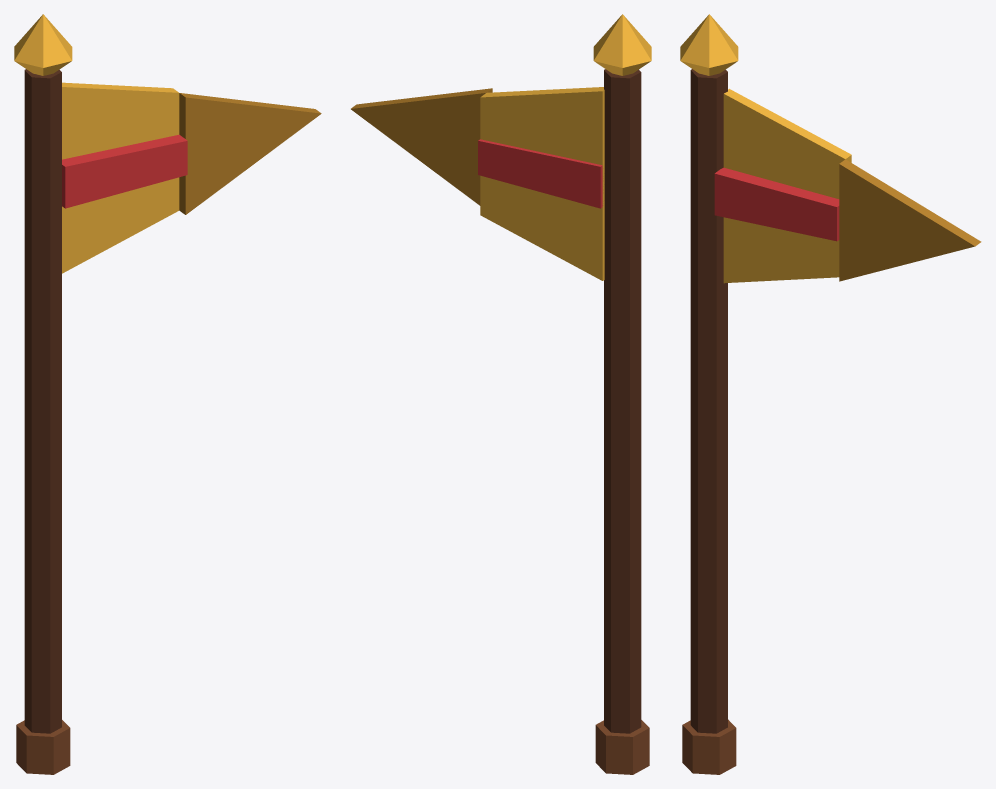
Rendered from OrderFlag.fbx.
3 renders of one model, left to right at view 1: azimuth 30°, elevation 25°; view 2: azimuth 150°, elevation 25°; view 3: azimuth 330°, elevation 25°, orthographic.
Parts seen in each view (by area): view 1: OrderFlag; view 2: OrderFlag; view 3: OrderFlag.
Boxes of the visible parts, bbox=[...] form: OrderFlag: bbox=[14, 14, 321, 774]; OrderFlag: bbox=[351, 14, 651, 774]; OrderFlag: bbox=[680, 14, 981, 774].
Bounding box in the file's own units: 0.332 × 0.79 × 0.0554.
